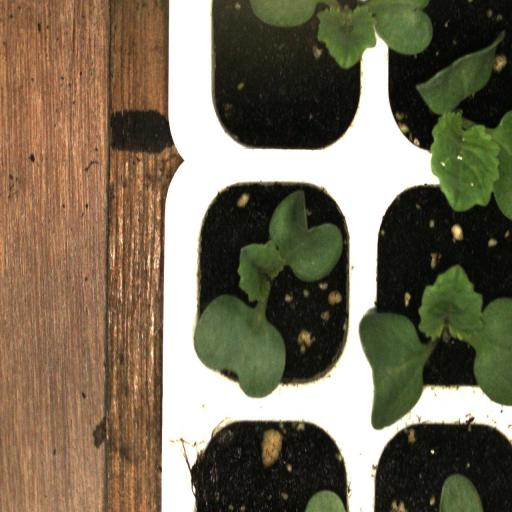seedling: (186, 167, 362, 403), (362, 166, 512, 407)
